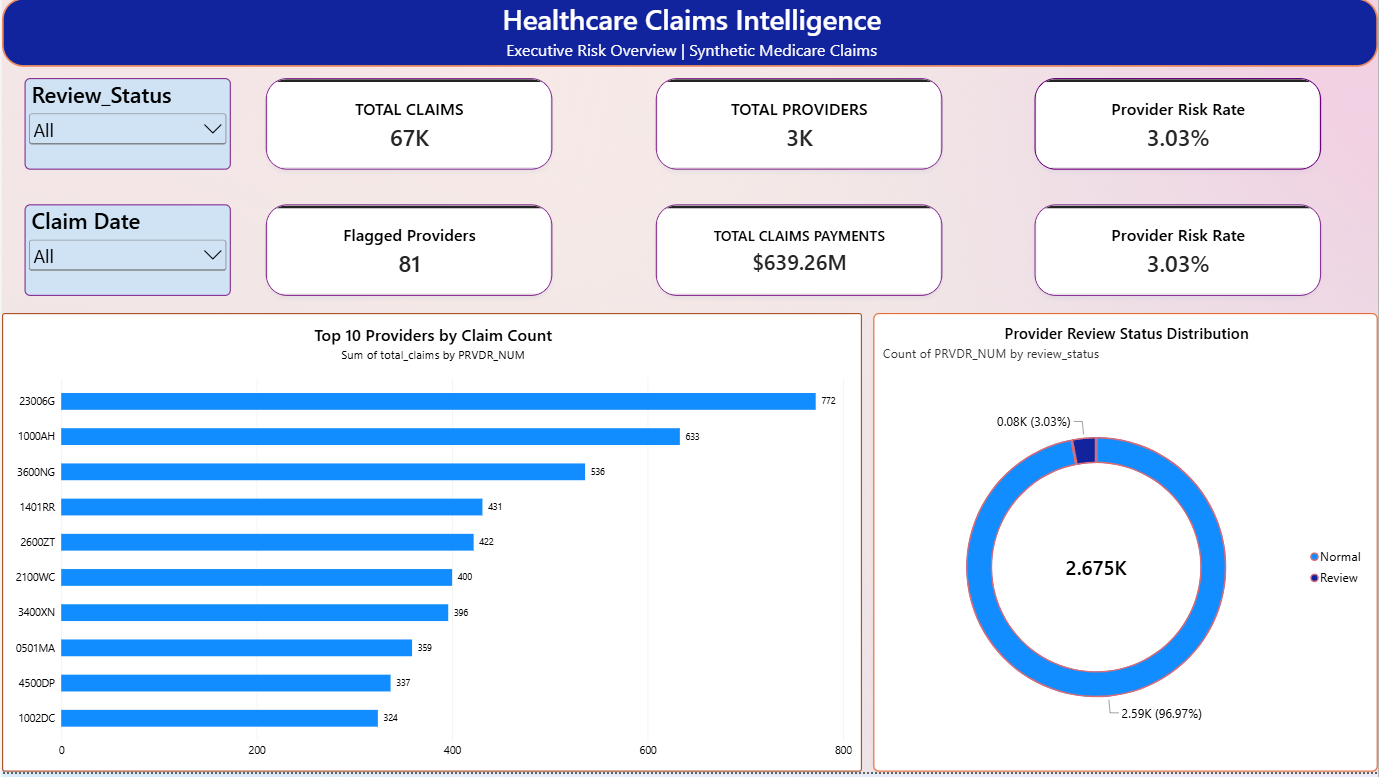

What the dashboard file says about the page in this screenshot:
{"tool":"powerbi","page":{"name":"Executive Risk Overview","canvas":[1920,1080],"ordinal":0},"visuals":[{"type":"textbox","title":"Healthcare Claims Intelligence ","box":[0,0,1920,96],"z":0},{"type":"cardVisual","title":"Total Claims","fields":{"Data":["Claims.Total Claims"]},"box":[416,112,448,176],"z":1000},{"type":"cardVisual","title":"Total Claims","fields":{"Data":["Claims.Total Claim Payments"]},"box":[1200,304,496,192],"z":2000},{"type":"cardVisual","title":"Total Claims","fields":{"Data":["Claims.Total Providers"]},"box":[1200,112,496,176],"z":3000},{"type":"cardVisual","title":"Total Claims","fields":{"Data":["Claims.Flagged Providers"]},"box":[416,304,448,192],"z":4000},{"type":"slicer","fields":{"Values":["ProviderRisk.review_status"]},"box":[48,112,288,128],"z":6000},{"type":"clusteredBarChart","title":"Top 10 Providers by Claim Count","fields":{"Category":["ProviderRisk.PRVDR_NUM"],"Y":["Sum(ProviderRisk.total_claims)"]},"box":[0,512,1216,560],"z":6001},{"type":"donutChart","title":"Provider Review Status Distribution","fields":{"Category":["ProviderRisk.review_status"],"Y":["CountNonNull(ProviderRisk.PRVDR_NUM)"]},"box":[1232,512,672,544],"z":6002}]}

Visuals, with their boxes in screenshot pixels (x1, y1, x2, y2), scaled from the page's 1920x1080 canvas onto the 1381x777 screenshot:
"Healthcare Claims Intelligence " textbox: detection(0, 0, 1380, 69)
"Total Claims" cardVisual: detection(299, 81, 621, 207)
"Total Claims" cardVisual: detection(863, 219, 1220, 357)
"Total Claims" cardVisual: detection(863, 81, 1220, 207)
"Total Claims" cardVisual: detection(299, 219, 621, 357)
slicer - ProviderRisk.review_status: detection(35, 81, 242, 173)
"Top 10 Providers by Claim Count" clusteredBarChart: detection(0, 368, 875, 771)
"Provider Review Status Distribution" donutChart: detection(886, 368, 1369, 760)
